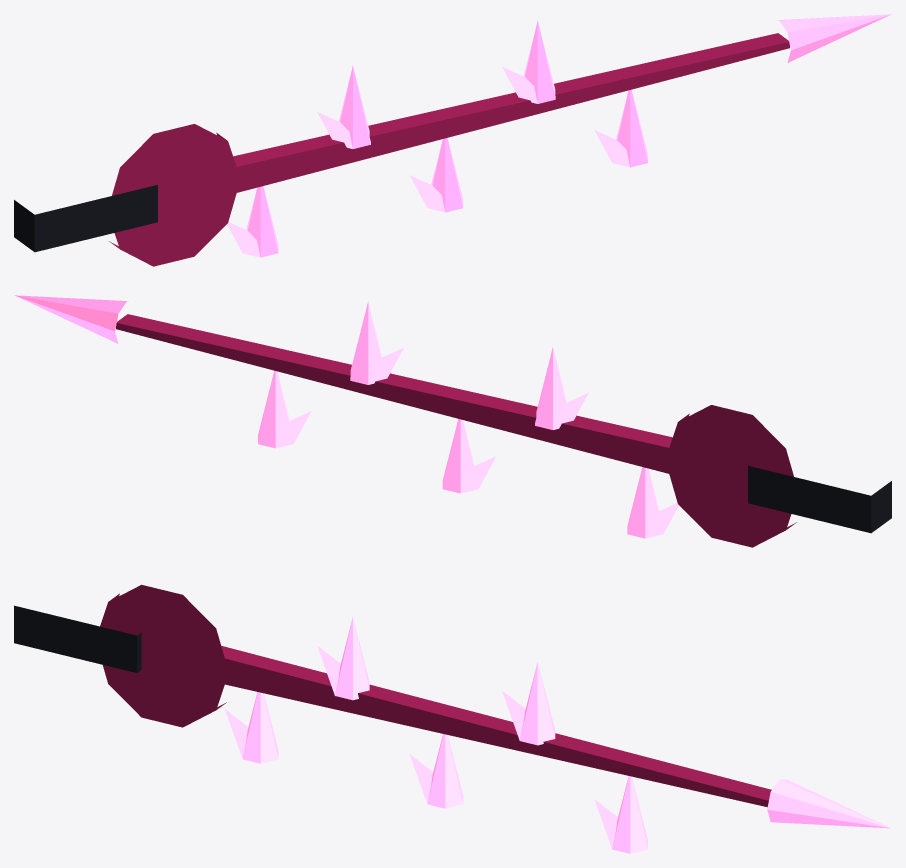
File: bloodthorn.glb
3 views of the same model, one above another, from view 1: azimuth 30°, elevation 25°; view 2: azimuth 150°, elevation 25°; view 3: azimuth 330°, elevation 25° (orthographic).
Visible parts, largest first — view 1: bloodthorn-needle, bloodthorn-guard, bloodthorn-grip, bloodthorn-tip, bloodthorn-thorn-4, bloodthorn-thorn-3, bloodthorn-thorn-2, bloodthorn-thorn-0, bloodthorn-thorn-1; view 2: bloodthorn-needle, bloodthorn-guard, bloodthorn-grip, bloodthorn-tip, bloodthorn-thorn-4, bloodthorn-thorn-3, bloodthorn-thorn-2, bloodthorn-thorn-0, bloodthorn-thorn-1; view 3: bloodthorn-needle, bloodthorn-guard, bloodthorn-grip, bloodthorn-tip, bloodthorn-thorn-4, bloodthorn-thorn-2, bloodthorn-thorn-3, bloodthorn-thorn-0, bloodthorn-thorn-1.
Boxes of the visible parts, left/top/right/bottom form: bloodthorn-needle: left=215, top=33, right=789, bottom=198; bloodthorn-guard: left=109, top=124, right=240, bottom=266; bloodthorn-grip: left=14, top=184, right=157, bottom=252; bloodthorn-tip: left=777, top=14, right=891, bottom=62; bloodthorn-thorn-4: left=594, top=89, right=647, bottom=167; bloodthorn-thorn-3: left=502, top=20, right=555, bottom=103; bloodthorn-thorn-2: left=409, top=138, right=463, bottom=212; bloodthorn-thorn-0: left=227, top=186, right=278, bottom=257; bloodthorn-thorn-1: left=317, top=66, right=370, bottom=148; bloodthorn-needle: left=116, top=314, right=672, bottom=473; bloodthorn-guard: left=665, top=405, right=796, bottom=547; bloodthorn-grip: left=748, top=465, right=891, bottom=533; bloodthorn-tip: left=14, top=295, right=128, bottom=343; bloodthorn-thorn-4: left=258, top=370, right=311, bottom=448; bloodthorn-thorn-3: left=350, top=301, right=403, bottom=384; bloodthorn-thorn-2: left=442, top=419, right=496, bottom=493; bloodthorn-thorn-0: left=627, top=467, right=678, bottom=538; bloodthorn-thorn-1: left=535, top=347, right=588, bottom=429; bloodthorn-needle: left=203, top=646, right=771, bottom=807; bloodthorn-guard: left=100, top=584, right=228, bottom=727; bloodthorn-grip: left=14, top=605, right=141, bottom=672; bloodthorn-tip: left=767, top=779, right=890, bottom=828; bloodthorn-thorn-4: left=594, top=776, right=647, bottom=853; bloodthorn-thorn-2: left=409, top=734, right=463, bottom=808; bloodthorn-thorn-3: left=502, top=662, right=555, bottom=745; bloodthorn-thorn-0: left=225, top=692, right=278, bottom=763; bloodthorn-thorn-1: left=317, top=617, right=369, bottom=700.
Size of the model in its own units: 1.69 by 0.3 by 0.08.
